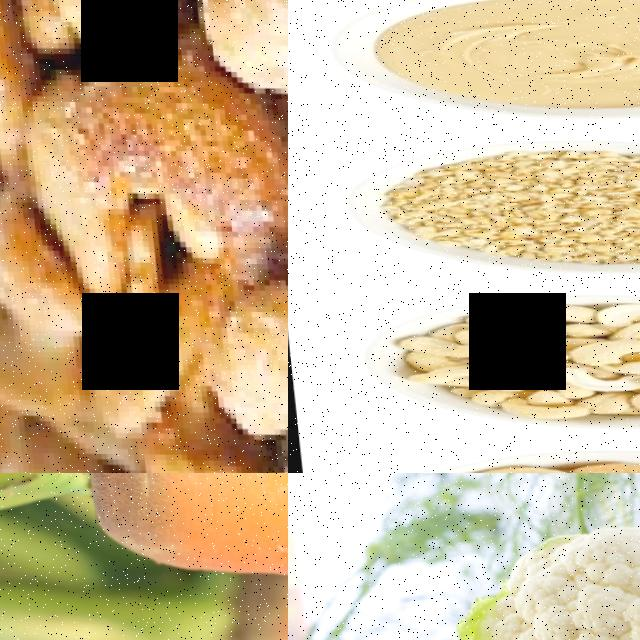carrot: (1, 473, 288, 612)
cashew: (62, 55, 288, 248), (494, 391, 595, 426), (436, 450, 569, 473), (548, 329, 640, 360), (450, 301, 546, 329), (386, 331, 475, 358), (432, 364, 517, 385), (562, 451, 640, 473), (588, 297, 640, 326)
cauliflower: (465, 473, 640, 640)
